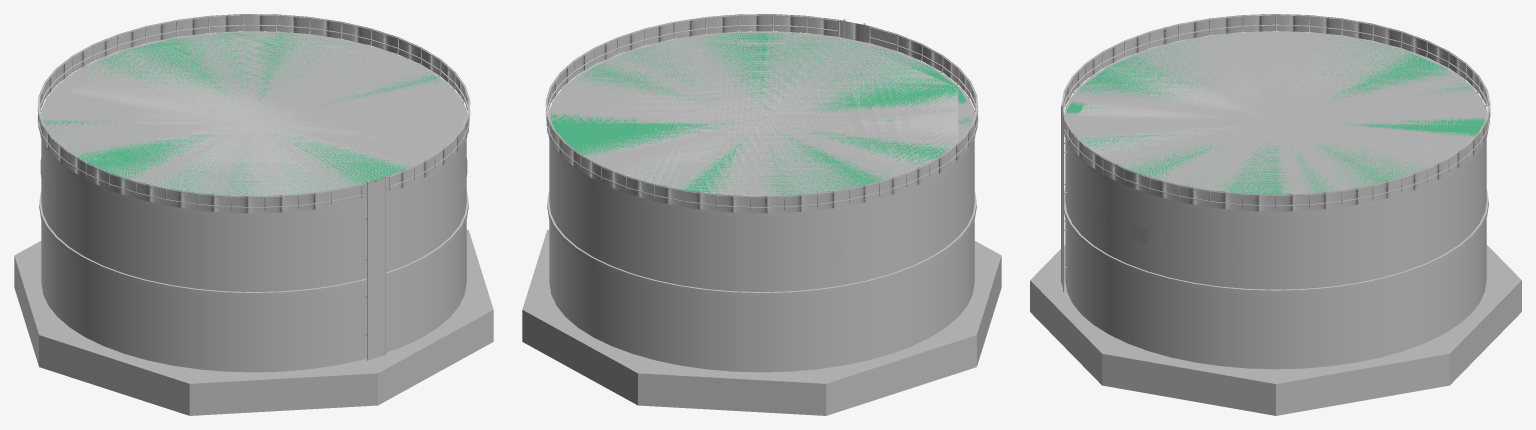
The model's file is fueltank_test2.dae.
3 views of the same model, side by side, from view 1: azimuth 30°, elevation 25°; view 2: azimuth 150°, elevation 25°; view 3: azimuth 270°, elevation 25° (orthographic).
Parts seen in each view (by area): view 1: ind_bld_a1100, ind_bld_a100, ind_bld_a300, Colmesh-1; view 2: ind_bld_a1100, ind_bld_a100, Colmesh-1, ind_bld_a300; view 3: ind_bld_a1100, ind_bld_a300, Colmesh-1, ind_bld_a100.
Part boxes in pixels (<box>): ind_bld_a1100: <box>14,14,493,415</box>; ind_bld_a100: <box>68,33,429,196</box>; ind_bld_a300: <box>38,14,469,213</box>; Colmesh-1: <box>43,33,441,196</box>; ind_bld_a1100: <box>522,14,1001,415</box>; ind_bld_a100: <box>572,39,958,195</box>; Colmesh-1: <box>551,33,972,195</box>; ind_bld_a300: <box>546,14,977,213</box>; ind_bld_a1100: <box>1030,14,1521,415</box>; ind_bld_a300: <box>1062,14,1489,211</box>; Colmesh-1: <box>1067,38,1484,194</box>; ind_bld_a100: <box>1078,40,1456,194</box>.
Size of the model in its own units: 28 by 28 by 13.13.
